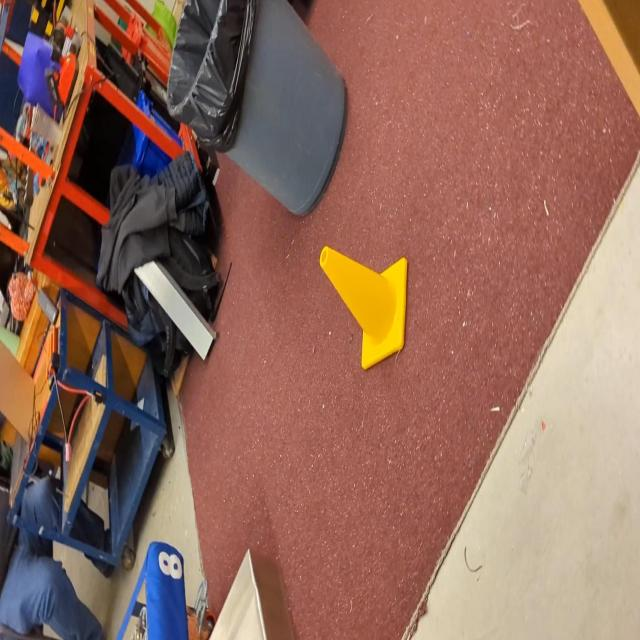frc_cone: (317, 246, 405, 372)
